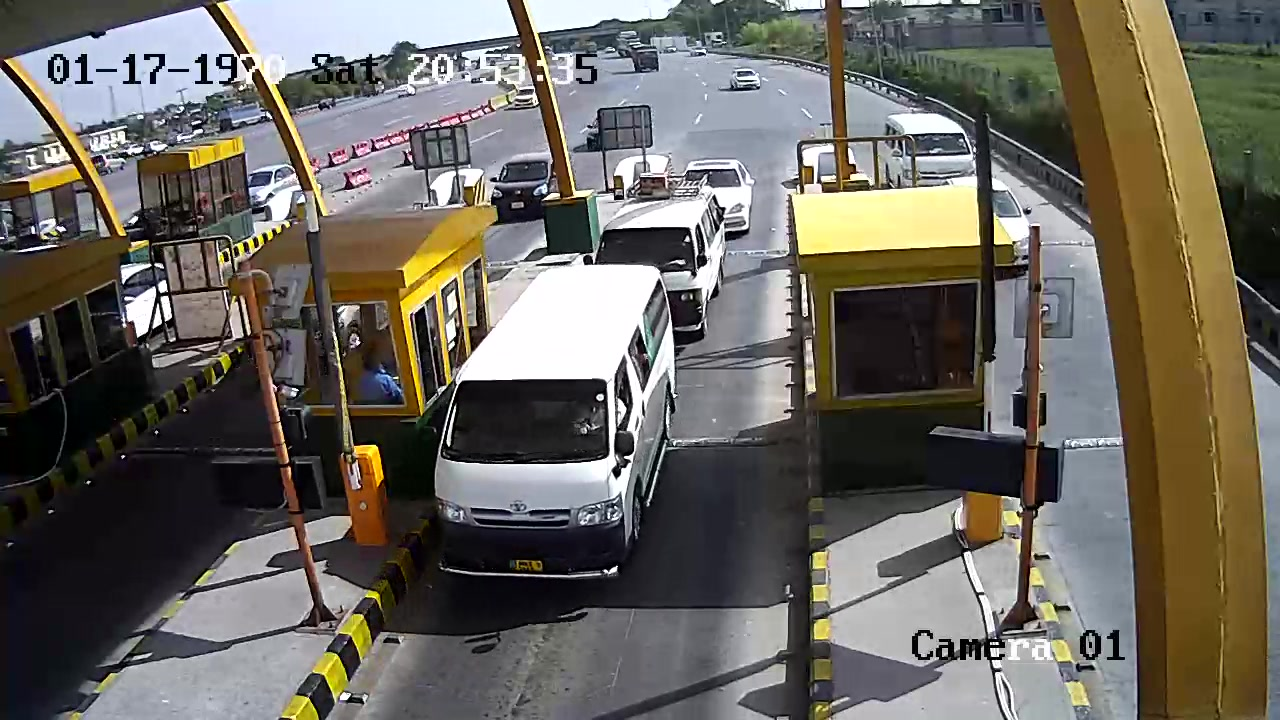F2: (426, 261, 685, 587)
